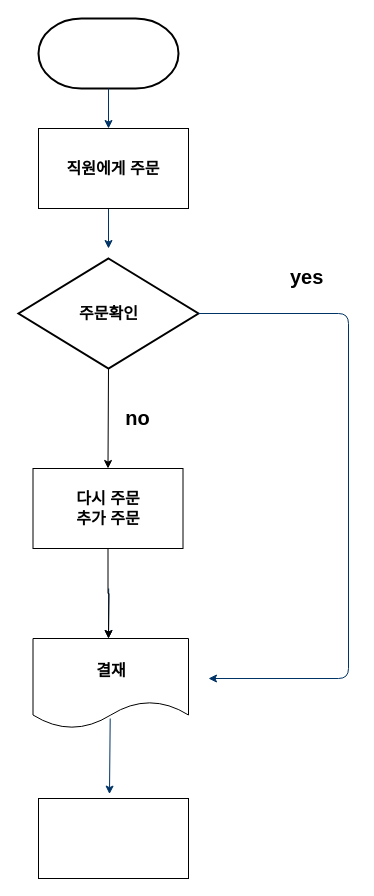
The diagram is 374 pixels wide and 896 high, and some of its shapes have lost their labels. Here are the shapes that lost their labels. From the top down, the centre of each, then its label:
At (x=108, y=53): "맥도날드 DT".
At (x=113, y=838): "픽업".
